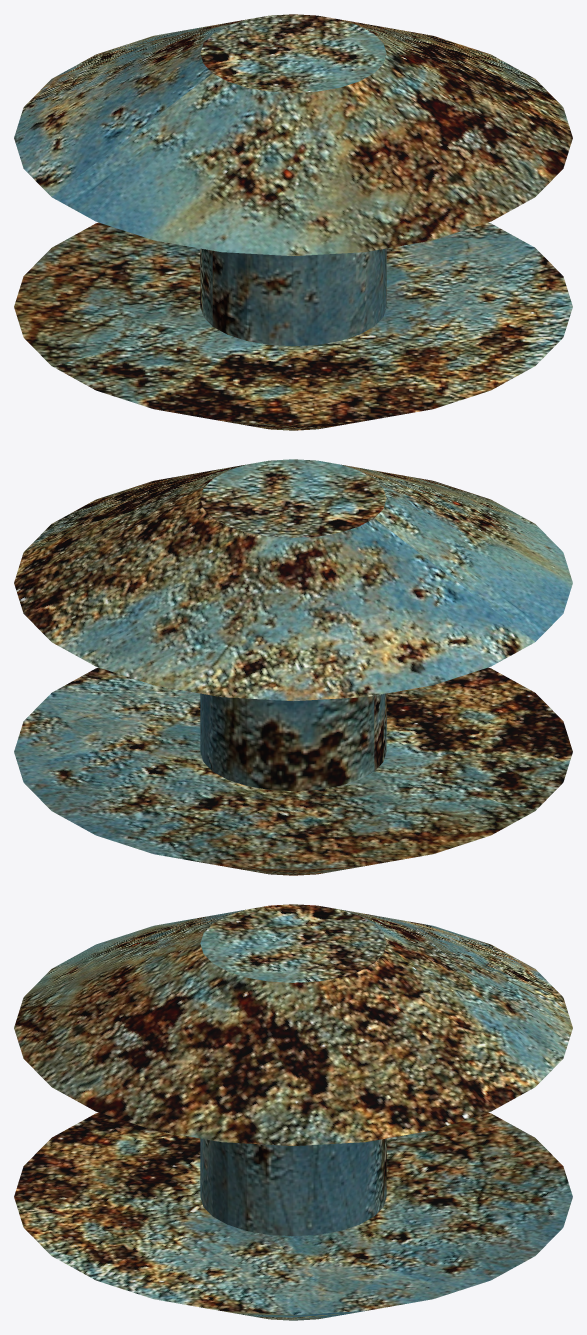
The model's file is SwivleShip.obj.
The picture shows the model from 3 angles, top to bottom: view 1: azimuth 30°, elevation 25°; view 2: azimuth 150°, elevation 25°; view 3: azimuth 270°, elevation 25°; orthographic projection.
Parts seen in each view (by area): view 1: Circle; view 2: Circle; view 3: Circle.
Part boxes in pixels (<box>): Circle: <box>14,14,572,430</box>; Circle: <box>14,459,572,875</box>; Circle: <box>14,904,572,1320</box>.
Size of the model in its own units: 6 by 4 by 6.
Materials: 1 (1 with a texture image).
